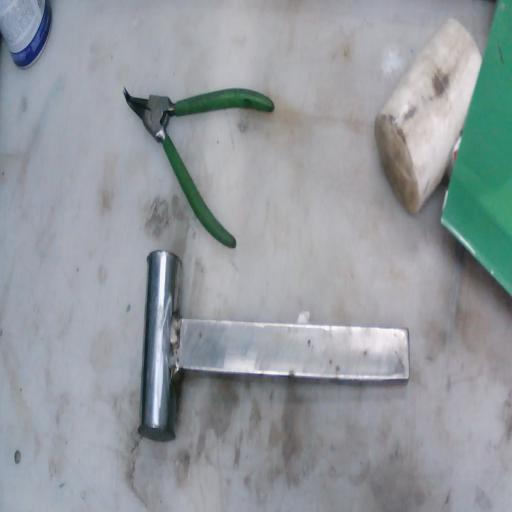tang_scun_hidrolik: (112, 68, 286, 267)
